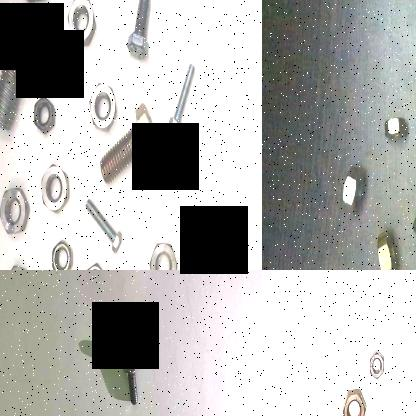Bolts: (101, 103, 159, 186), (160, 53, 204, 136), (0, 33, 35, 131), (82, 191, 126, 259), (125, 0, 154, 63), (121, 356, 145, 406)
NUTS: (372, 214, 410, 270), (86, 77, 120, 133), (0, 184, 32, 242), (37, 160, 69, 218), (66, 0, 99, 50), (340, 158, 368, 214), (380, 109, 416, 145), (31, 90, 58, 136), (190, 206, 216, 250), (148, 239, 179, 270), (339, 387, 368, 416), (366, 346, 388, 384), (50, 233, 72, 270), (84, 257, 110, 270), (411, 209, 416, 255)
